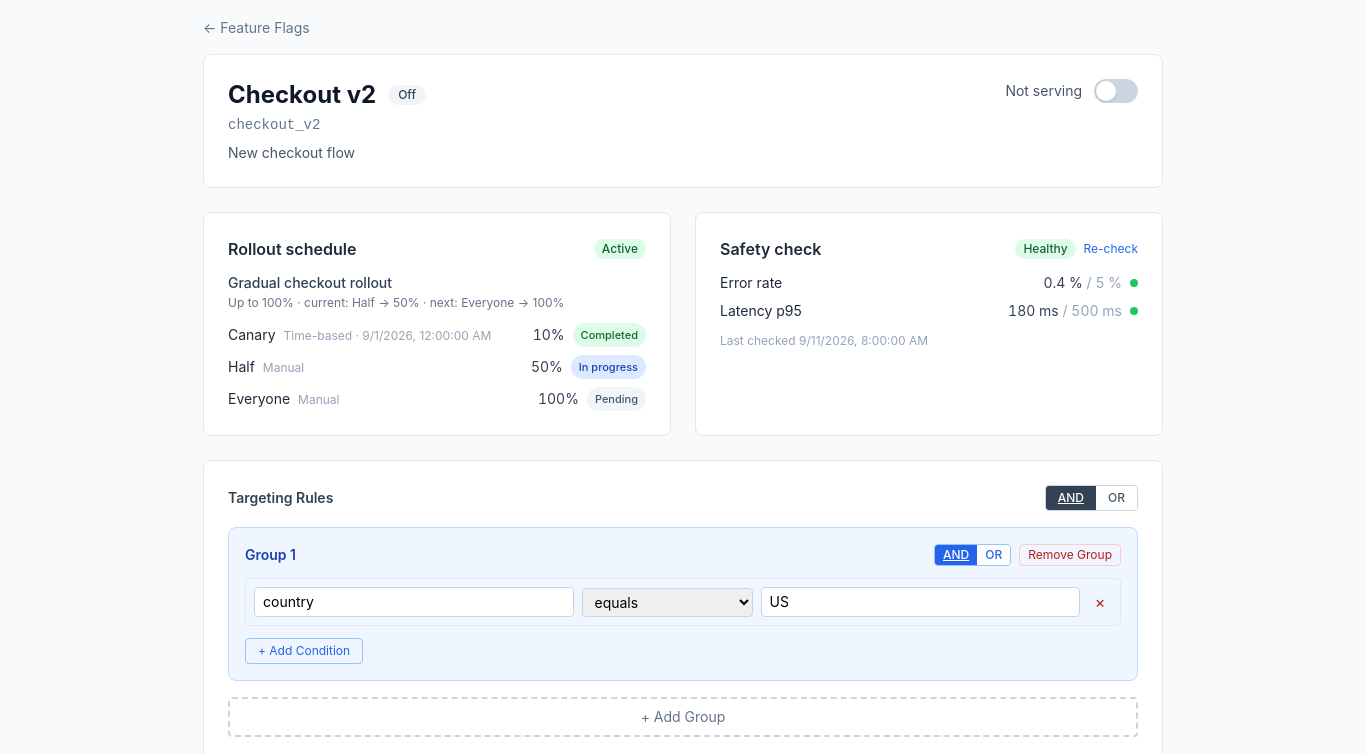
it: FeatureFlagDetailPage › sends the targeting rules with the rollout when they were changed
Replace the text in the field showing "US" with "CA" at (920, 602), box x1=760 y1=587 x2=1080 y2=617
(page scrolled)
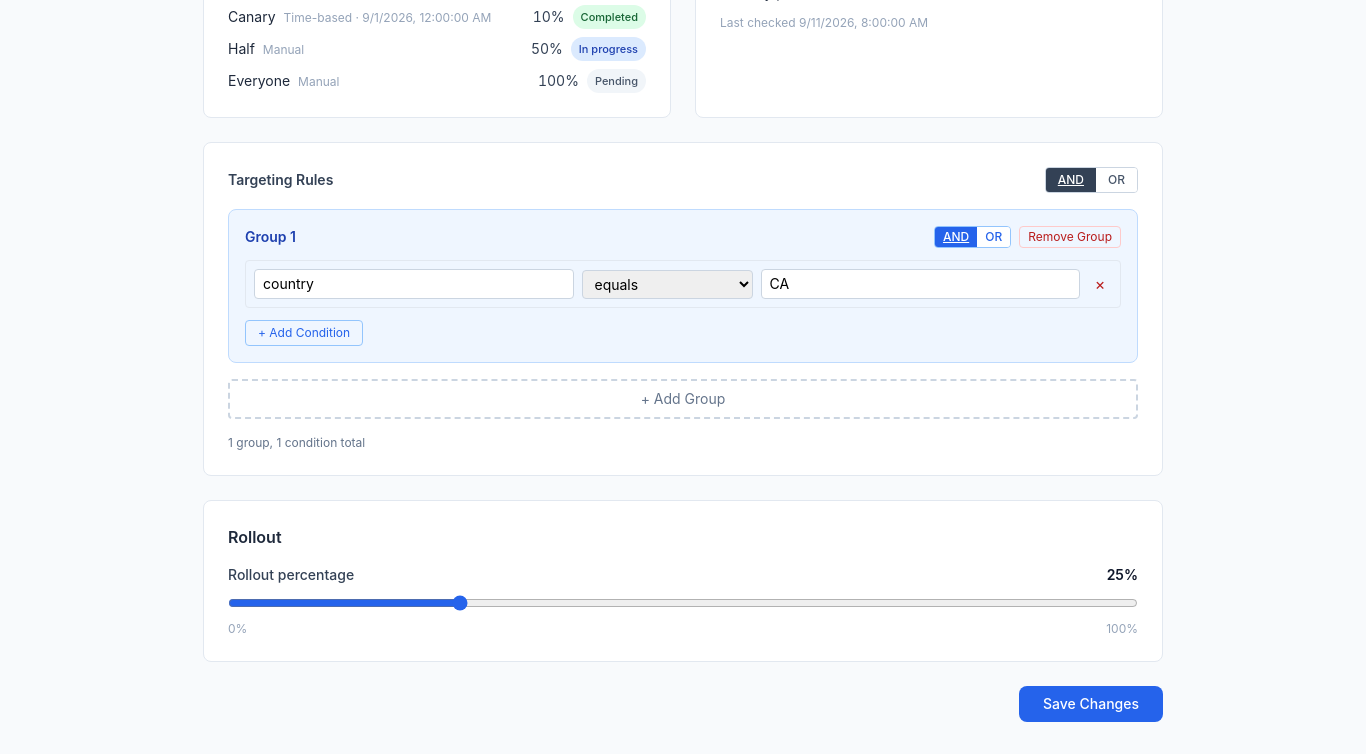
Click the button with test id "save-flag" at (1091, 704), box x1=1019 y1=686 x2=1163 y2=722
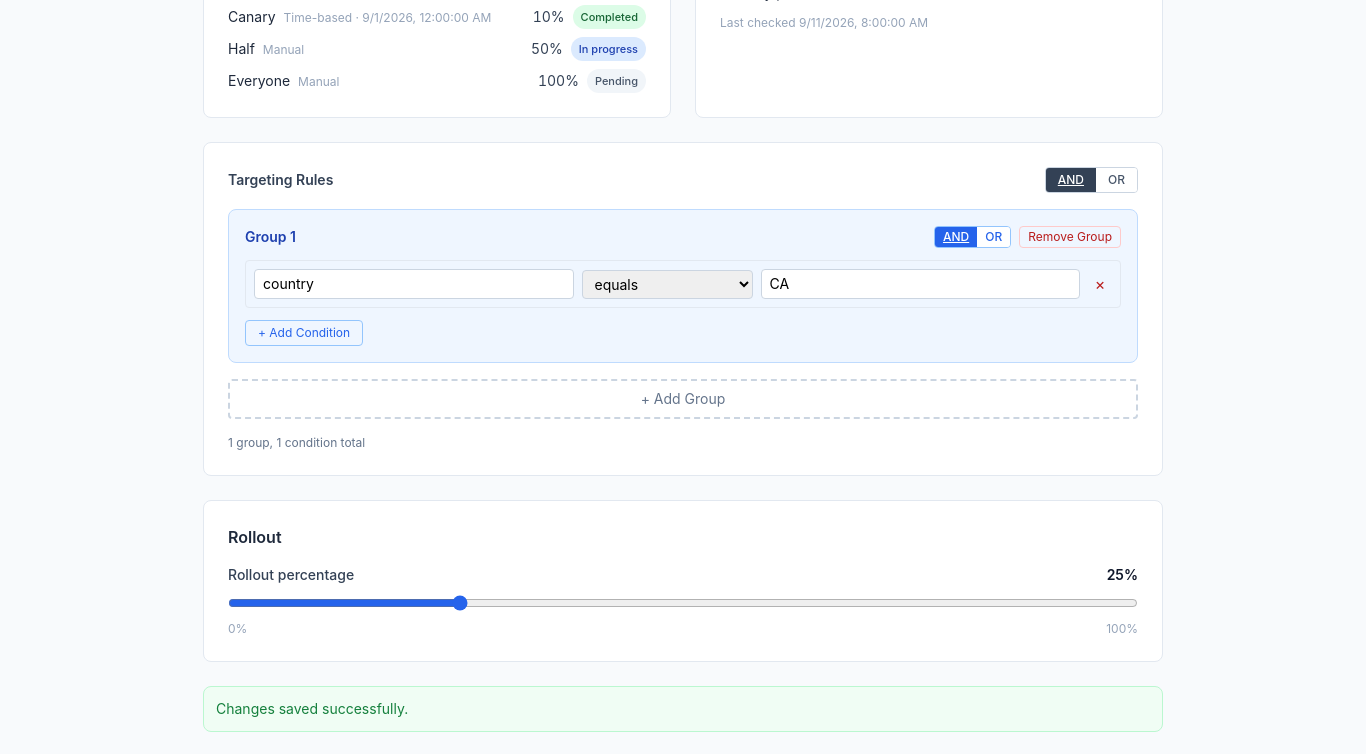
Expected: the message "Changes saved successfully." is shown, x1=203 y1=686 x2=1163 y2=732
